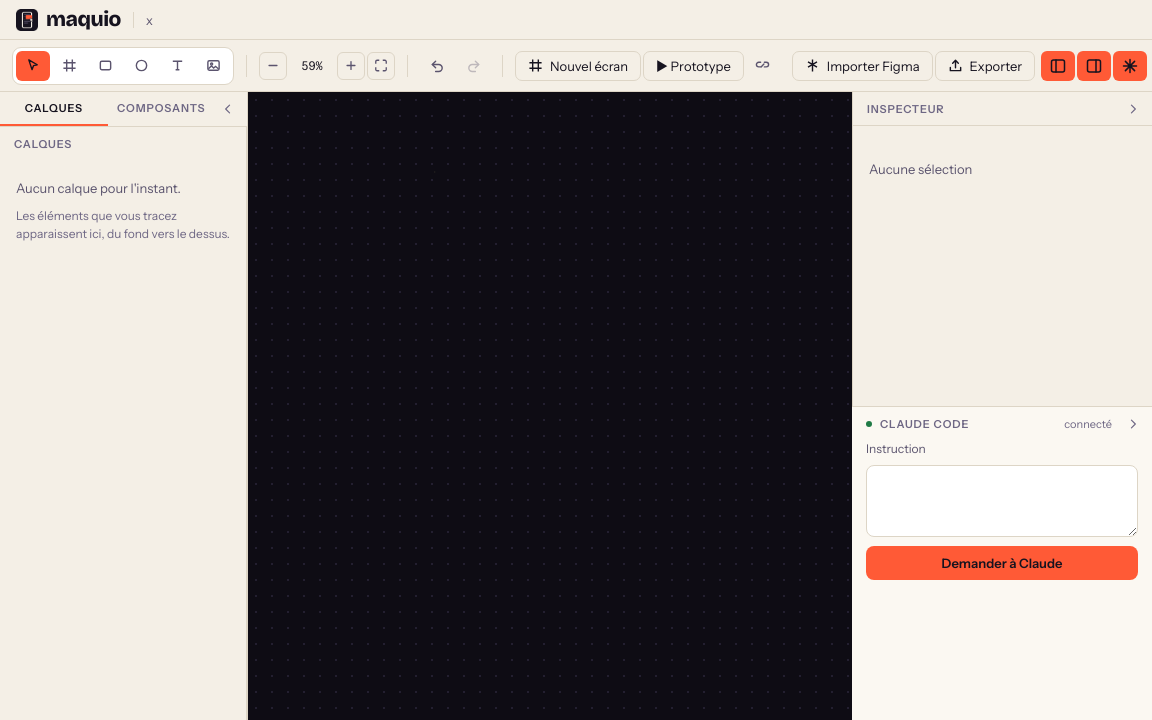
panneau Claude repliable › les trois panneaux se rouvrent par la barre d outils et le bouton de repli n existe que dans un panneau ouvert
The width and height of the screenshot is (1152, 720).
expect the number of buttons named "Replier le panneau de gauche" is 1: met, box [215,96,241,122]
What coordinates should you click on to do the following:
click the button named "Masquer panneau de gauche"
I would click on:
 (1058, 66)
Its box is [1041,50,1075,80].
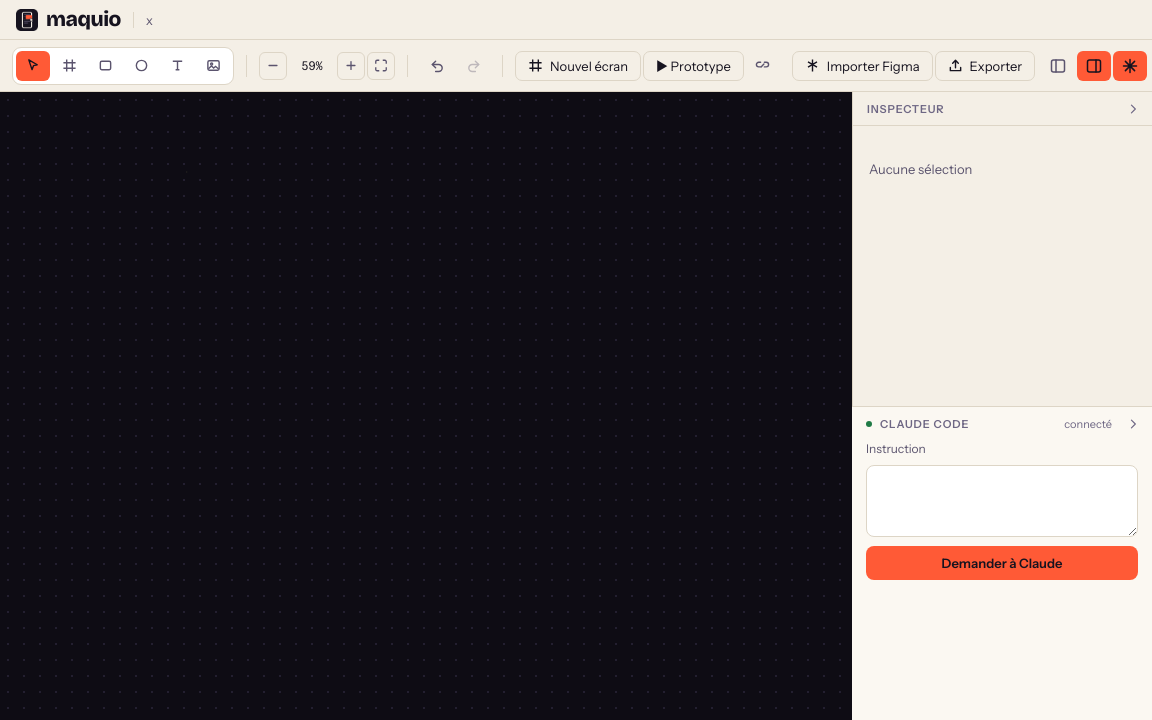
What coordinates should you click on to do the following:
click the button named "Afficher panneau de gauche"
I would click on:
 (1058, 66)
Its box is [1041,50,1075,80].
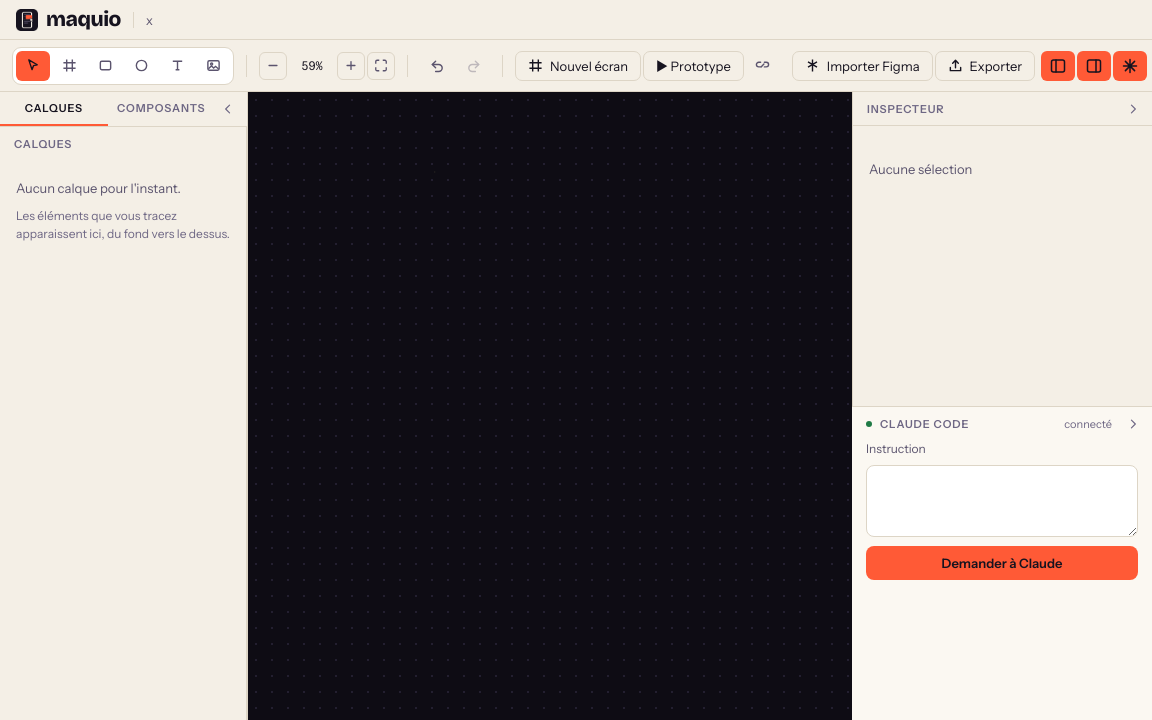
expect the number of buttons named "Replier l'inspecteur" is 1: met, box [1120,96,1146,122]
expect the number of buttons named "Replier le panneau de gauche" is 1: met, box [215,96,241,122]
What coordinates should you click on to do the following:
click the button named "Masquer l'inspecteur"
I would click on:
 (1094, 66)
Its box is [1077,50,1111,80].
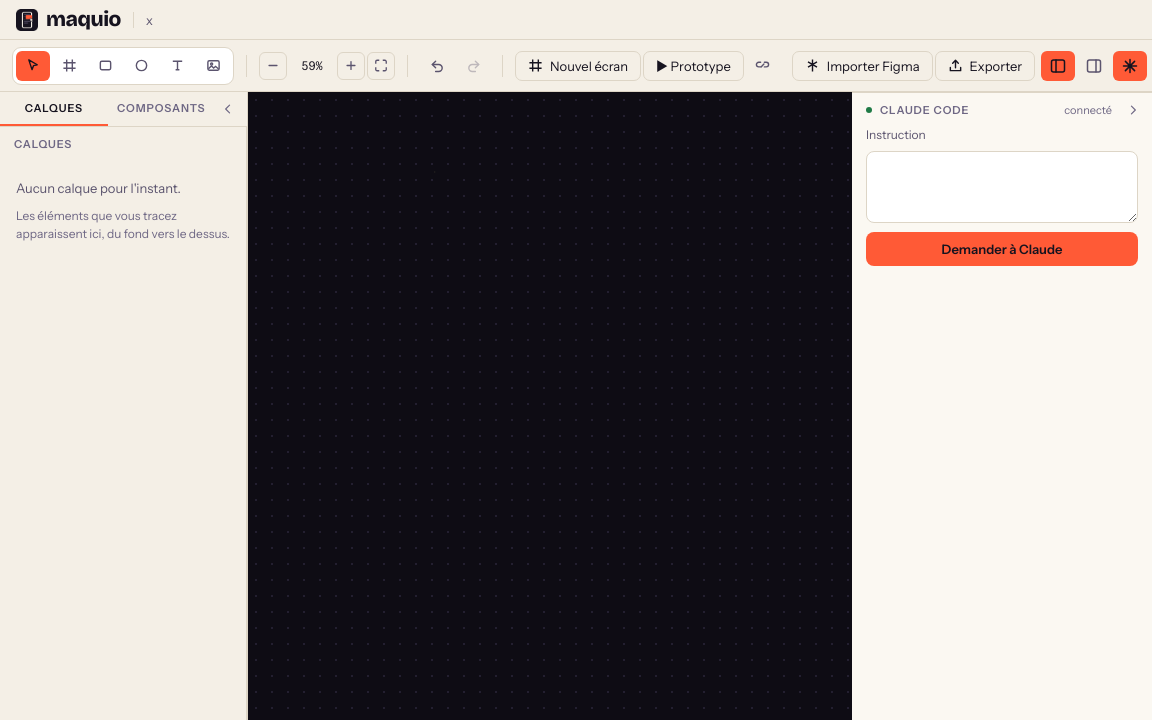
What coordinates should you click on to do the following:
click the button named "Afficher l'inspecteur"
I would click on:
 (1094, 66)
Its box is [1077,50,1111,80].
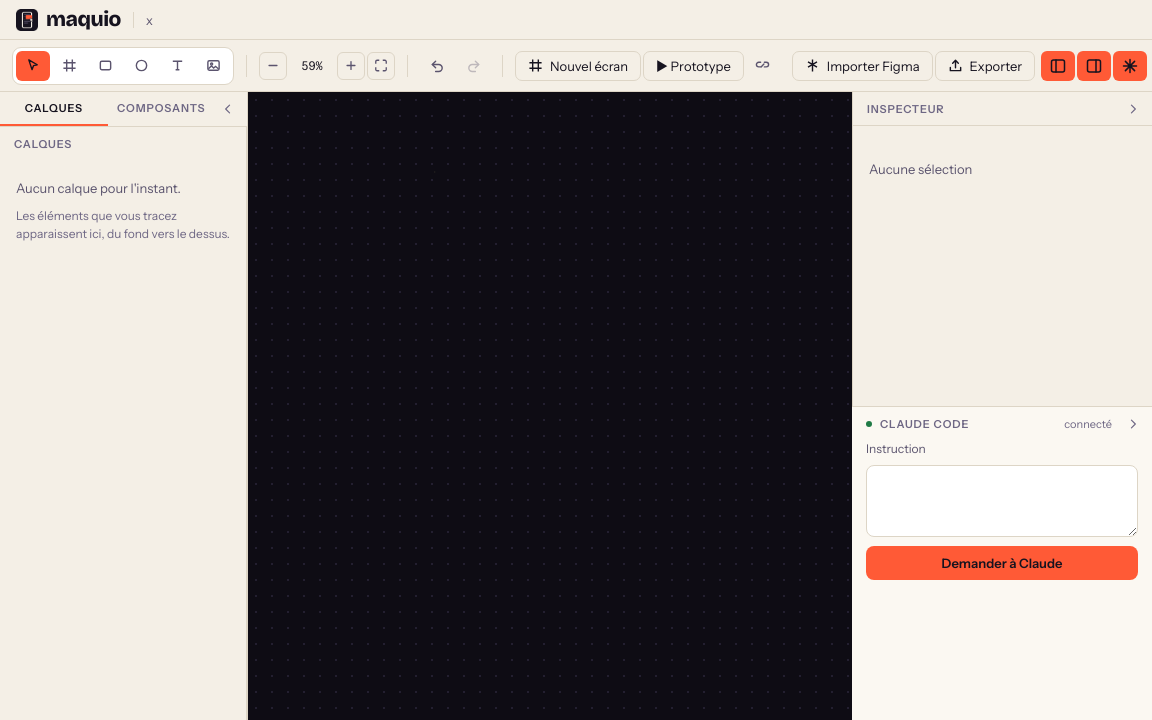
expect the number of buttons named "Replier l'inspecteur" is 1: met, box [1120,96,1146,122]
expect the number of buttons named "Replier le panneau Claude" is 1: met, box [1120,410,1146,436]
What coordinates should you click on to do the following:
click the button with test id "toggle-claude"
I would click on:
 (1130, 66)
Its box is [1113,50,1147,80].
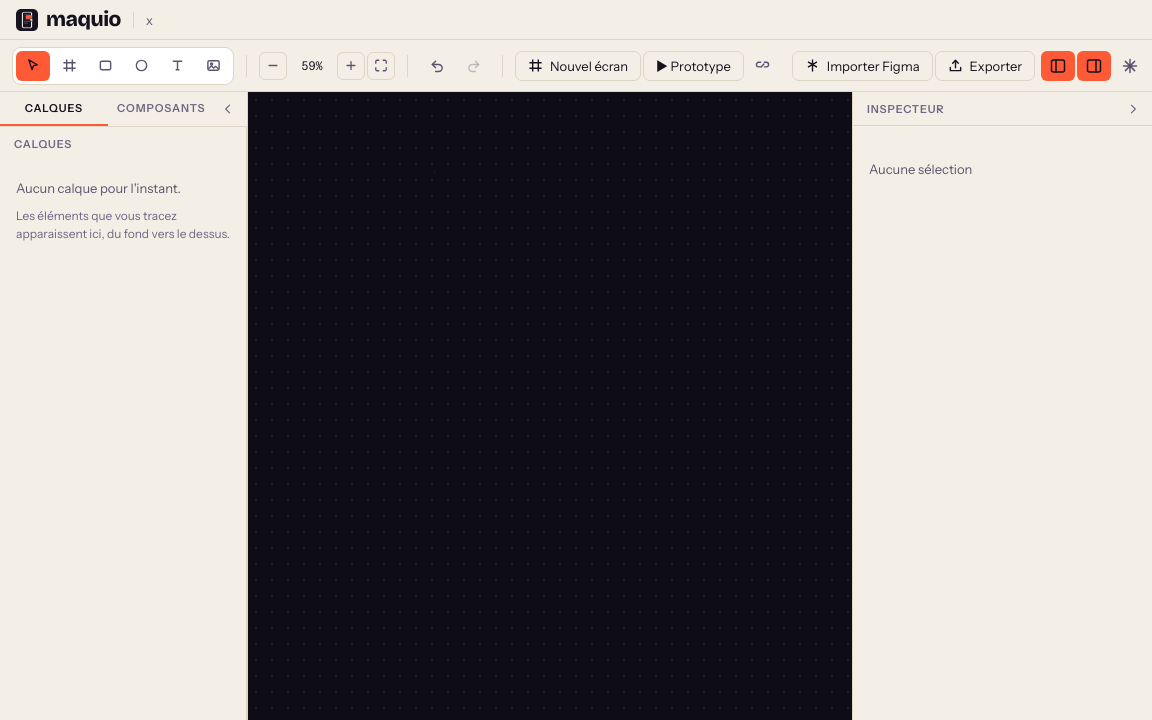
expect the button with test id "toggle-claude" is not pressed: met
What coordinates should you click on to do the following:
click the button with test id "toggle-claude"
I would click on:
 (1130, 66)
Its box is [1113,50,1147,80].
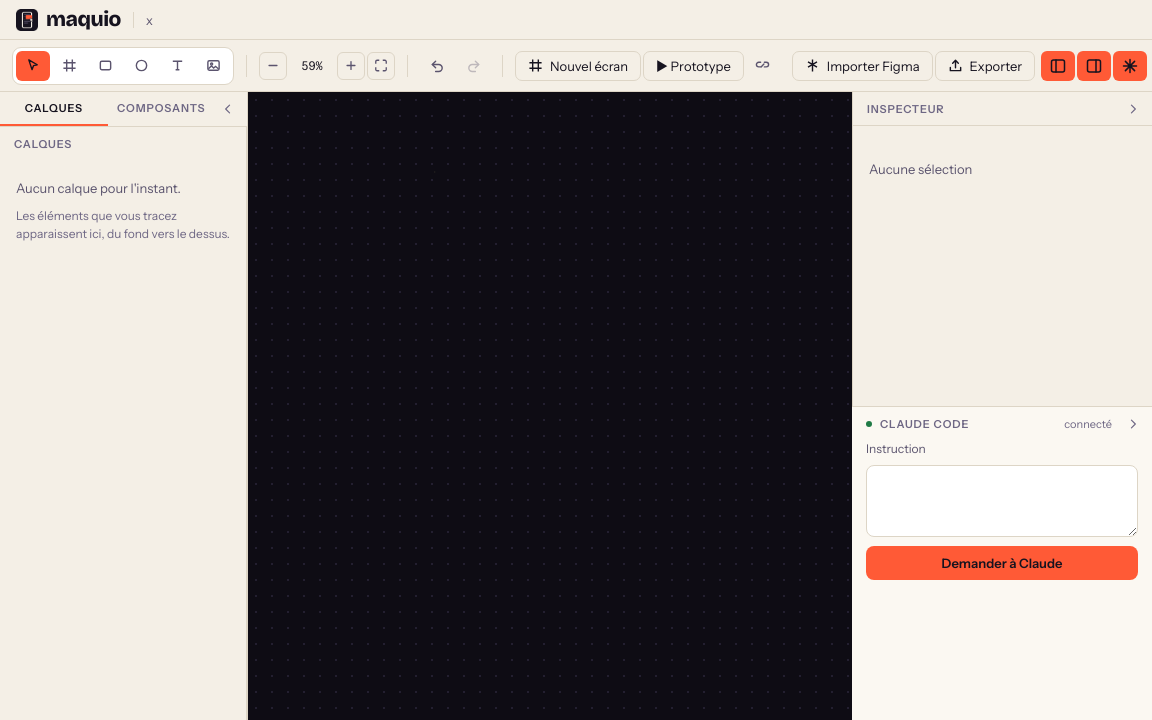
expect the number of buttons named "Replier le panneau Claude" is 1: met, box [1120,410,1146,436]
